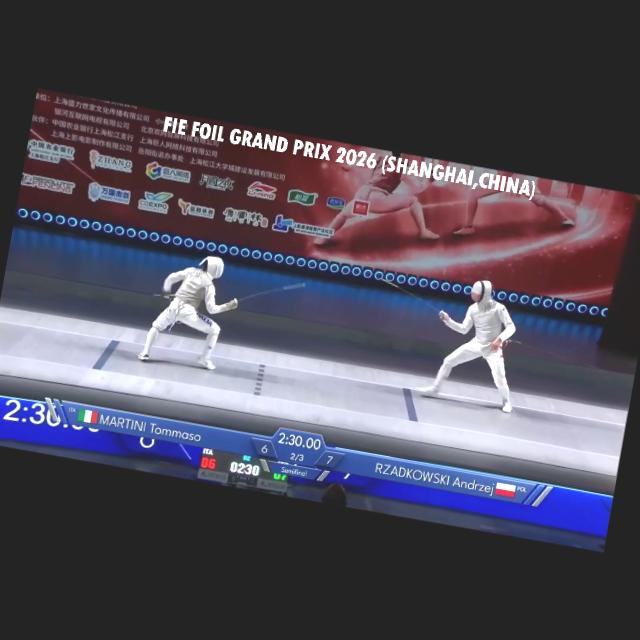blade: (227, 266, 310, 323), (371, 272, 452, 326)
